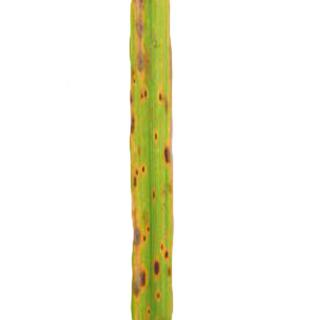bercak-Cokelat: (162, 145, 180, 168), (126, 114, 139, 138), (136, 270, 150, 287), (156, 90, 169, 107), (139, 89, 153, 104), (150, 127, 162, 144), (150, 260, 163, 275), (144, 225, 154, 237), (149, 189, 158, 202), (142, 235, 151, 248), (141, 161, 149, 175), (163, 252, 172, 262), (159, 243, 166, 250)
